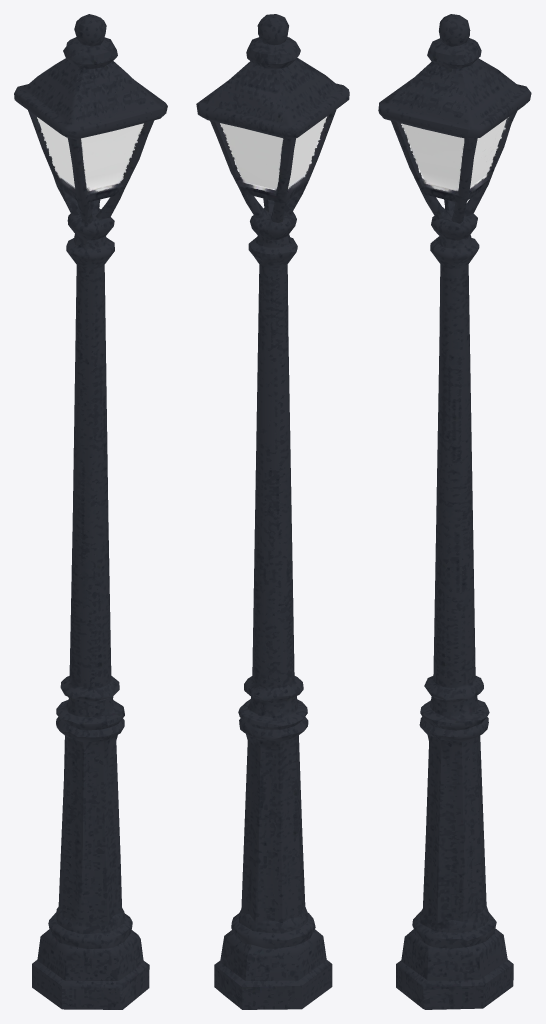
Rendered from lamp_post.glb.
3 renders of one model, left to right at view 1: azimuth 30°, elevation 25°; view 2: azimuth 150°, elevation 25°; view 3: azimuth 330°, elevation 25°, orthographic.
Visible parts, largest first — view 1: body, light; view 2: body, light; view 3: body, light.
Part boxes in pixels (left/top/right/bottom): body: left=14, top=14, right=167, bottom=1009; light: left=37, top=117, right=143, bottom=194; body: left=196, top=14, right=349, bottom=1009; light: left=221, top=117, right=325, bottom=189; body: left=378, top=14, right=531, bottom=1009; light: left=402, top=118, right=506, bottom=195.
Size of the model in its own units: 0.4726 by 4.2 by 0.4851.
1 material, 1 textured.
